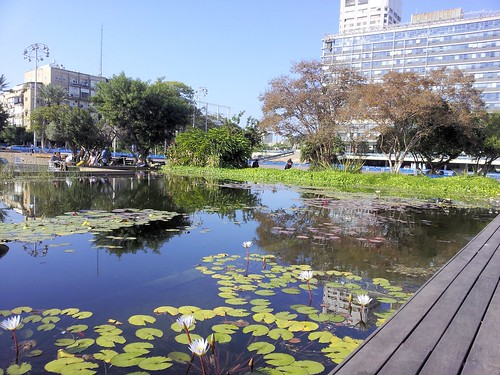building: (328, 1, 500, 154), (10, 66, 102, 144)
river: (1, 170, 445, 375)
sky: (1, 1, 316, 72)
tree: (364, 55, 483, 174), (258, 58, 366, 171), (87, 72, 195, 173), (21, 87, 109, 168)
